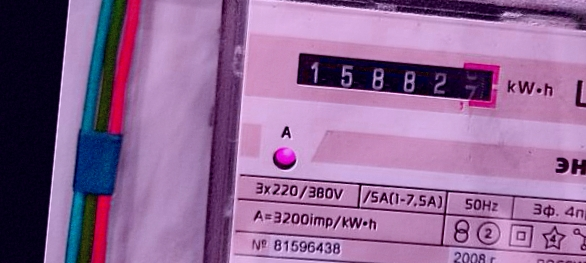1: (308, 58, 322, 85)
2: (431, 70, 449, 97)
5: (338, 62, 355, 90)
7: (462, 82, 478, 100)
8: (369, 65, 388, 92), (401, 68, 418, 95)
screen: (285, 41, 509, 118)
